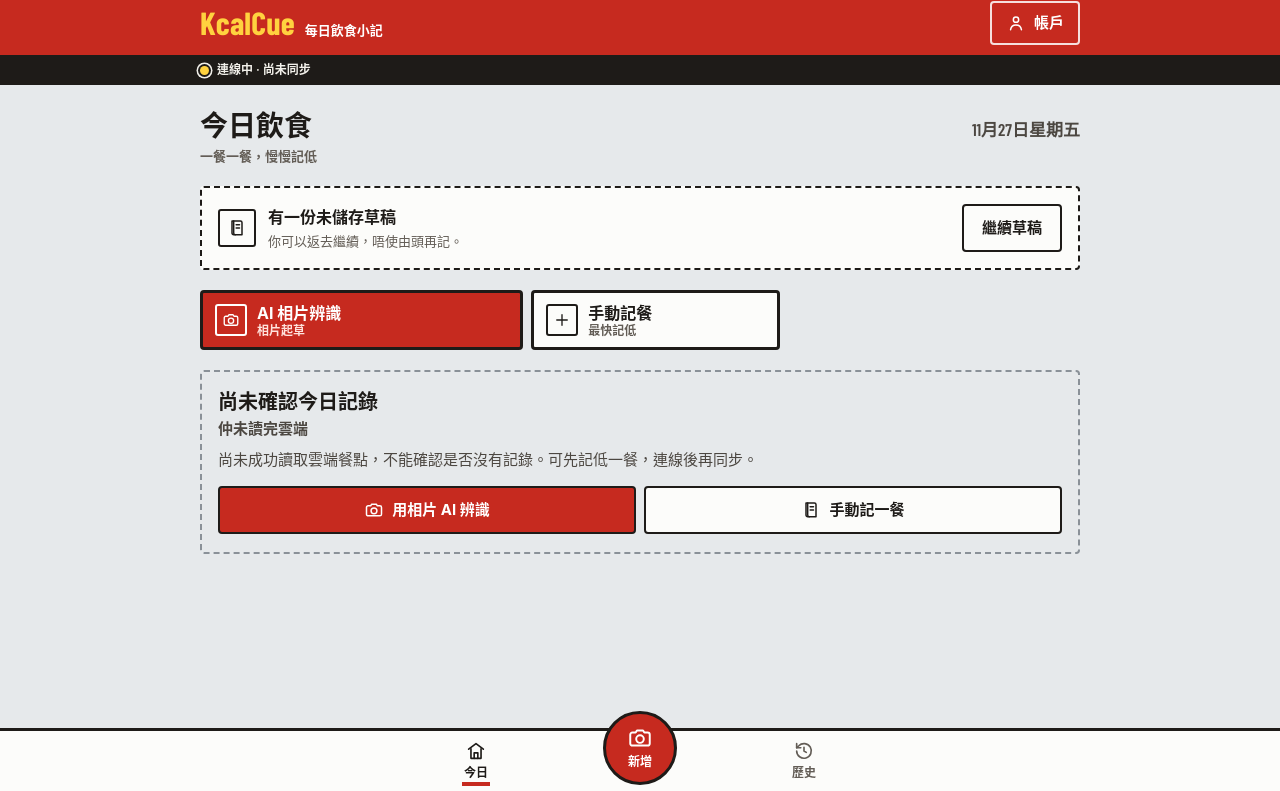
it: keeps a blocked cloud save journal note and retries that same mutation
Click the button "繼續草稿": (1012, 228) [962,204,1062,252]
(page scrolled)
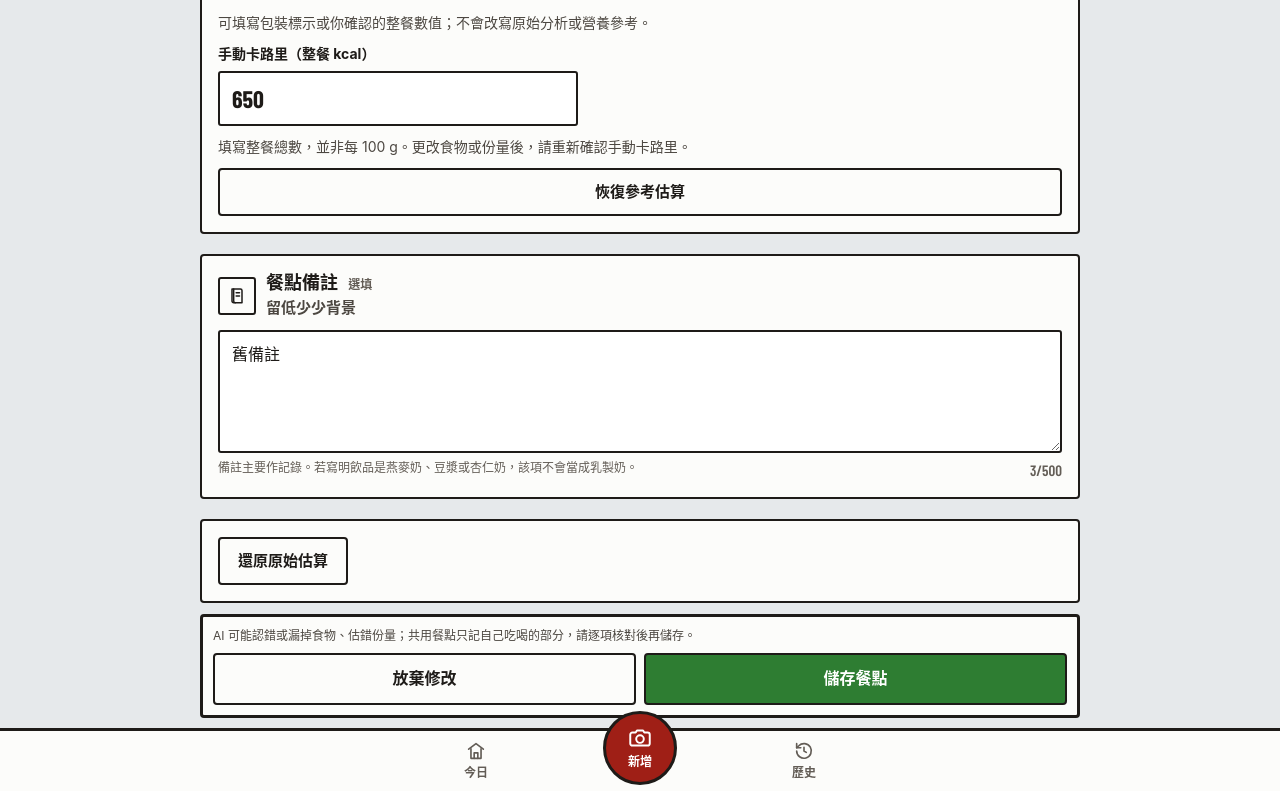
Expected: the text box named "餐點備註（選填）" holds "舊備註"
Replace the text in the text box named "餐點備註（選填）" with "更新後備註": (640, 391) [218,330,1062,453]
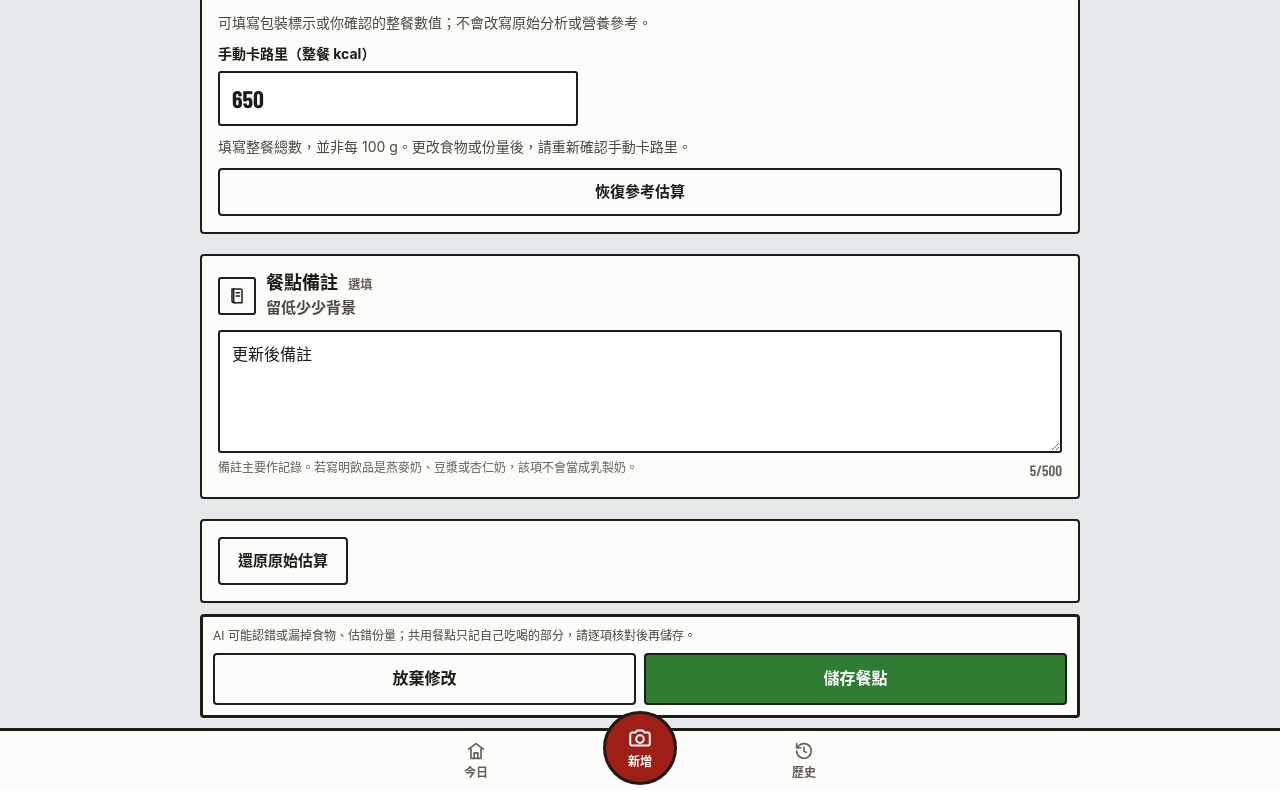
Click the button "儲存餐點": (856, 679) [644,653,1067,705]
(page scrolled)
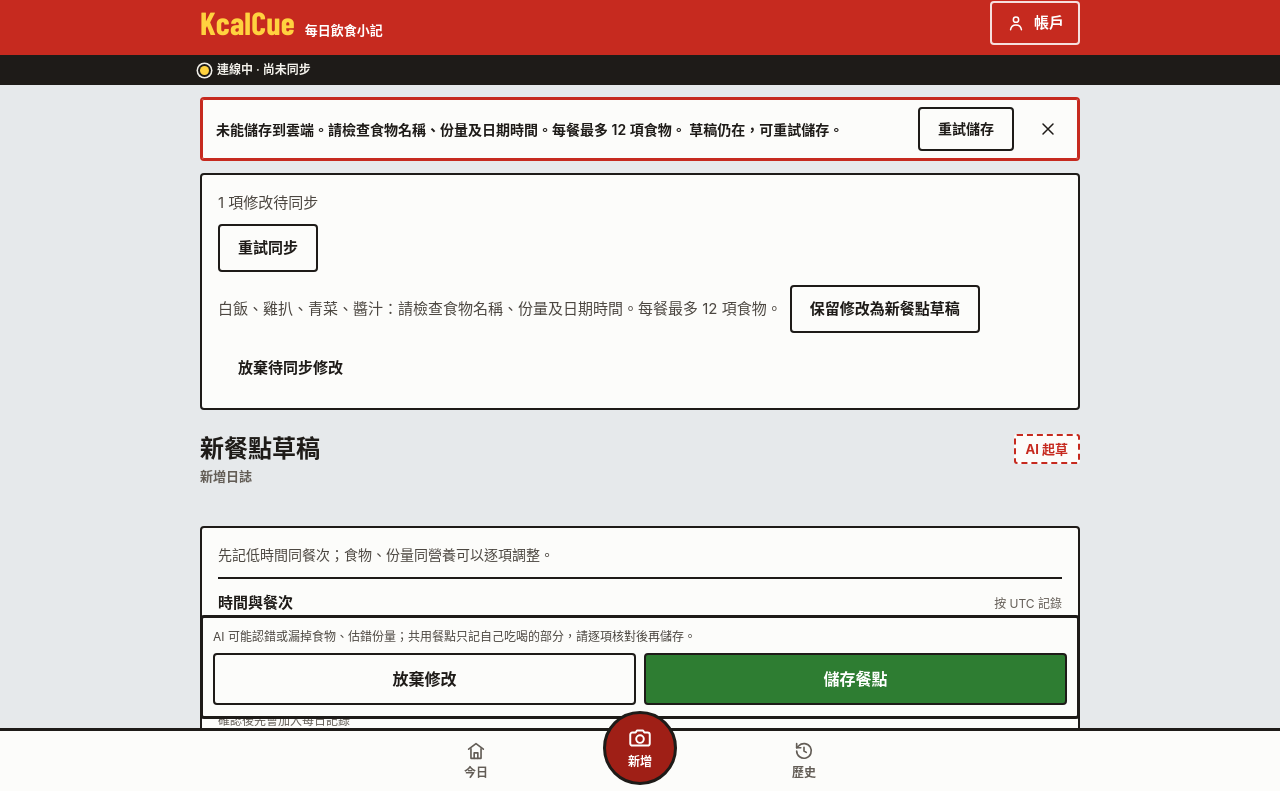
Expected: the heading "新餐點草稿" is shown, [200,434,320,464]
Expected: the message "未能儲存到雲端。請檢查食物名稱、份量及日期時間。每餐最多 12 項食物。 草稿仍在，可重試儲存。 重試儲存" is shown, [200,97,1080,161]
Expected: the button "重試儲存" is enabled
Click the button "重試儲存": (966, 129) [918,107,1014,151]
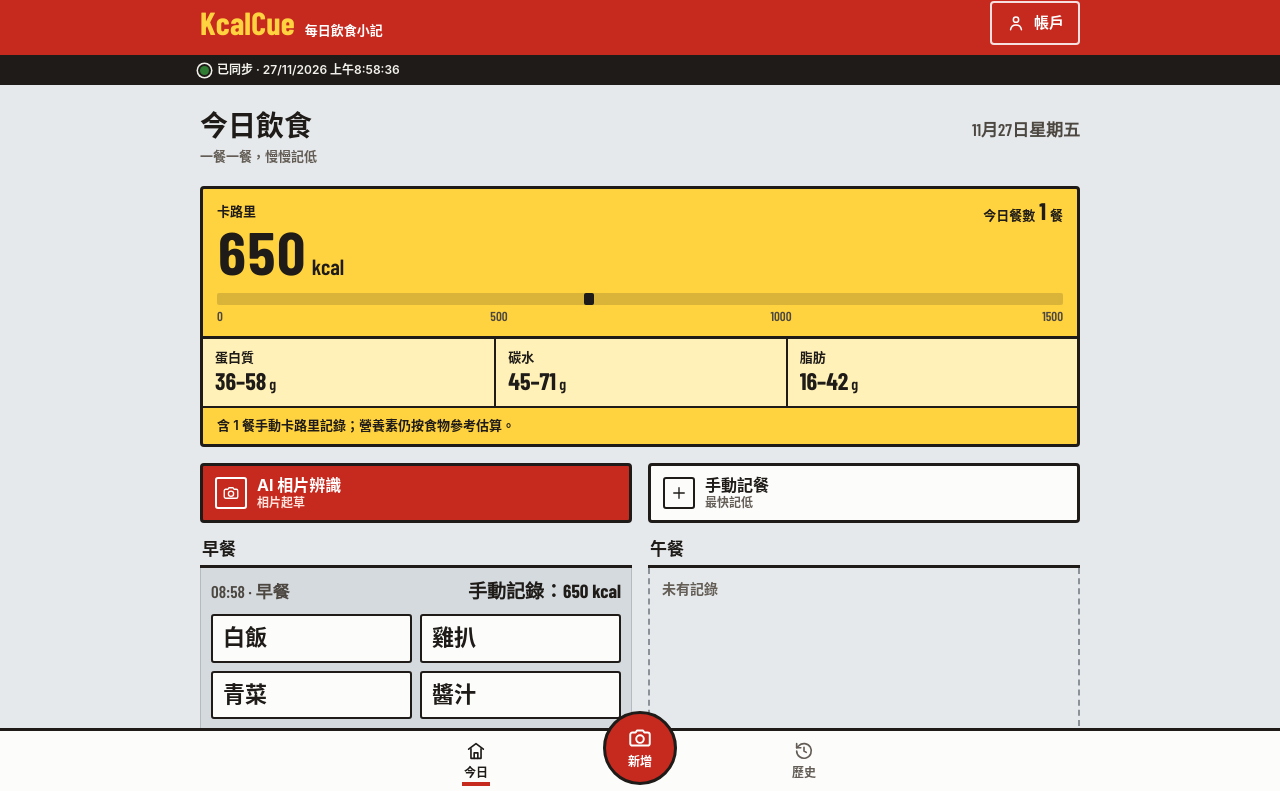
Expected: the text "更新後備註" is shown, [257,729,327,751]
Expected: the heading "今日飲食" is shown, [200,109,312,143]
Expected: the message "未能儲存到雲端。請檢查食物名稱、份量及日期時間。每餐最多 12 項食物。 草稿仍在，可重試儲存。 重試儲存" is gone
